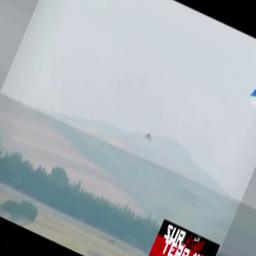Airplane: (142, 131, 155, 140)
